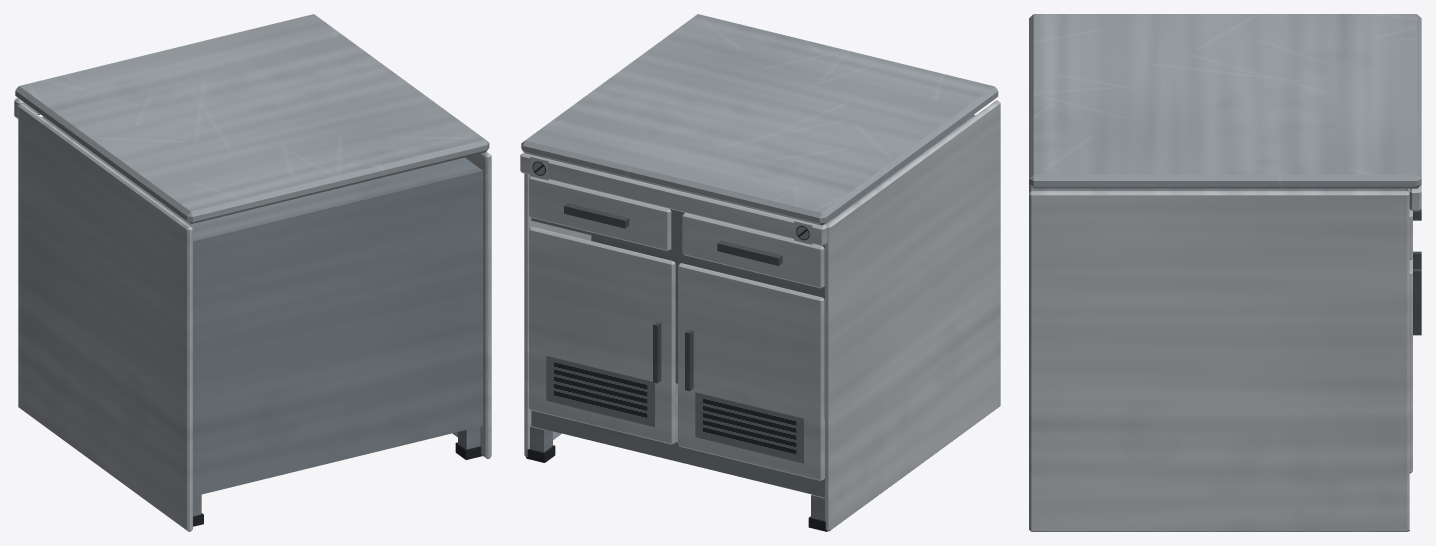
Rendered from counter_end.glb.
3 renders of one model, left to right at view 1: azimuth 30°, elevation 25°; view 2: azimuth 150°, elevation 25°; view 3: azimuth 270°, elevation 25°, orthographic. The views are drawn at different scales.
Visible parts, largest first — view 1: counter_end_body; view 2: counter_end_body; view 3: counter_end_body.
Part boxes in pixels (left/top/right/bottom): counter_end_body: left=14, top=14, right=491, bottom=531; counter_end_body: left=520, top=14, right=1000, bottom=531; counter_end_body: left=1029, top=14, right=1421, bottom=531.
Bounding box in the file's own units: 1 × 1 × 1.
6 materials, 5 textured.
